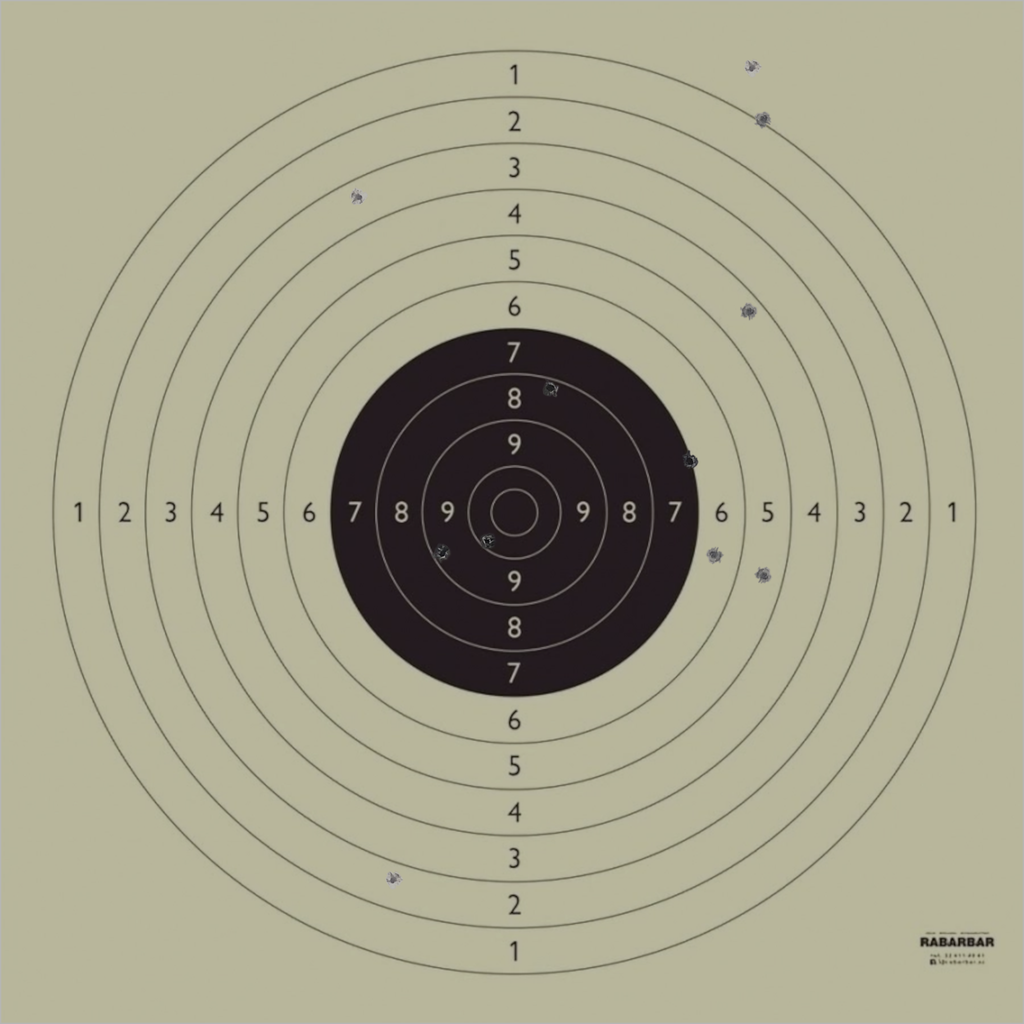0 punktow: (743, 59, 761, 77)
1 punkt: (754, 110, 773, 128)
10 punktow: (478, 532, 496, 550)
2 punkty: (384, 871, 402, 889)
3 punkty: (349, 188, 368, 206)
4 punkty: (740, 302, 759, 321)
5 punktow: (755, 567, 773, 585)
6 punktow: (705, 546, 723, 564)
7 punktow: (681, 452, 699, 470)
8 punktow: (542, 379, 560, 397)
9 punktow: (433, 545, 451, 563)
